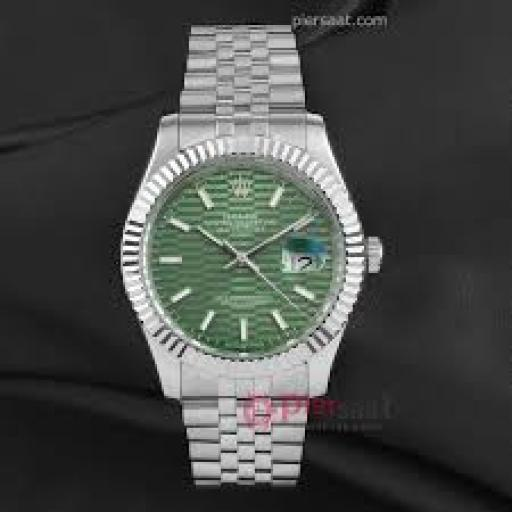KolSaati: (113, 8, 388, 501)
